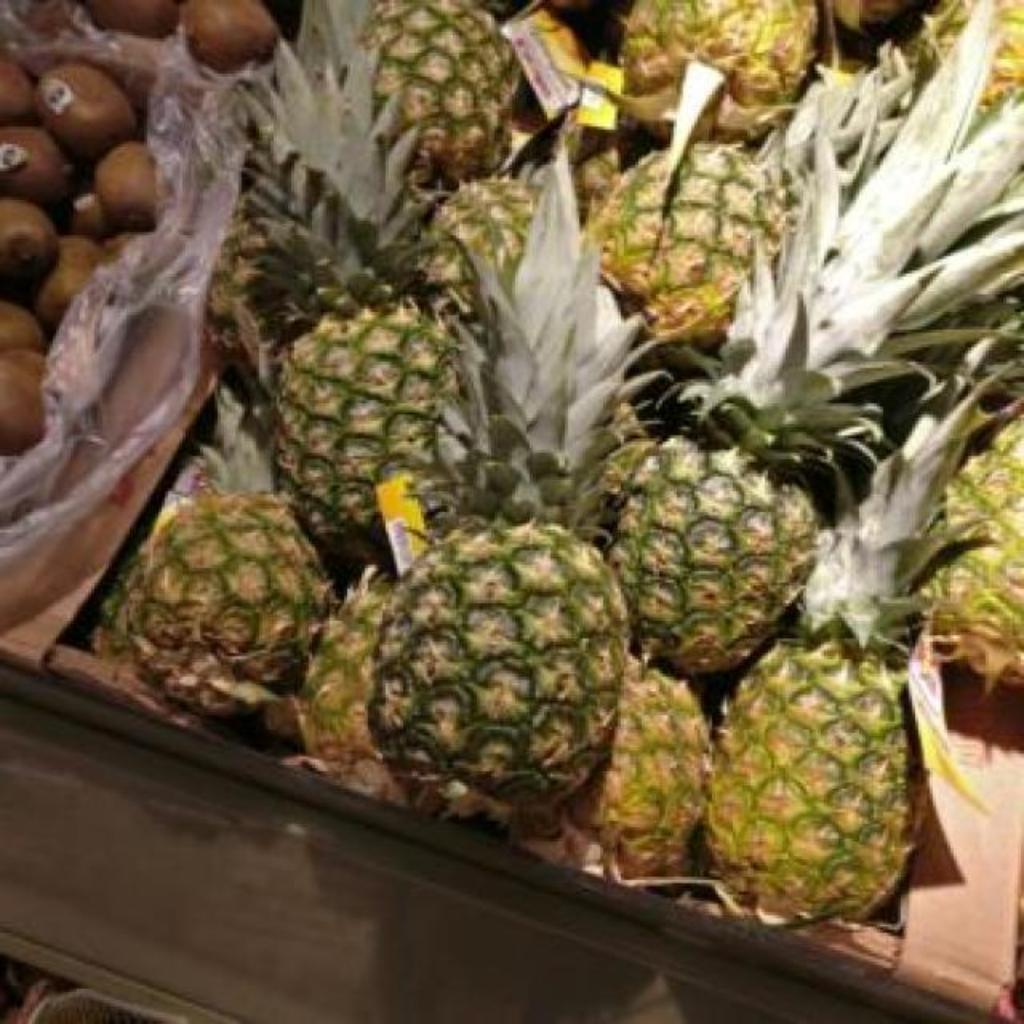pineapple: (612, 4, 1024, 717), (370, 148, 642, 799), (708, 388, 976, 917), (94, 492, 332, 717), (250, 0, 424, 303), (280, 304, 452, 577), (592, 144, 780, 341), (366, 0, 512, 185), (928, 416, 1024, 685), (600, 656, 708, 877), (622, 0, 813, 105), (302, 568, 392, 759), (424, 180, 538, 311)
